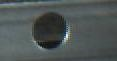holes: (29, 10, 71, 52)
